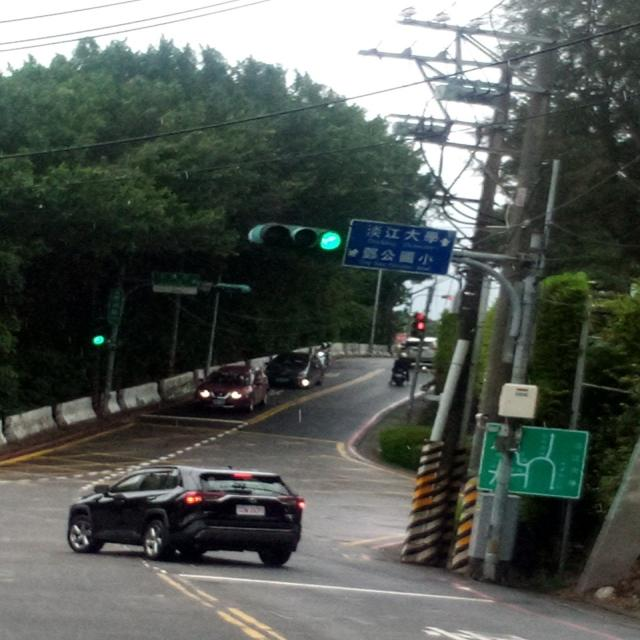green light: (246, 224, 342, 253), (91, 309, 105, 345)
red light: (412, 308, 427, 335)
